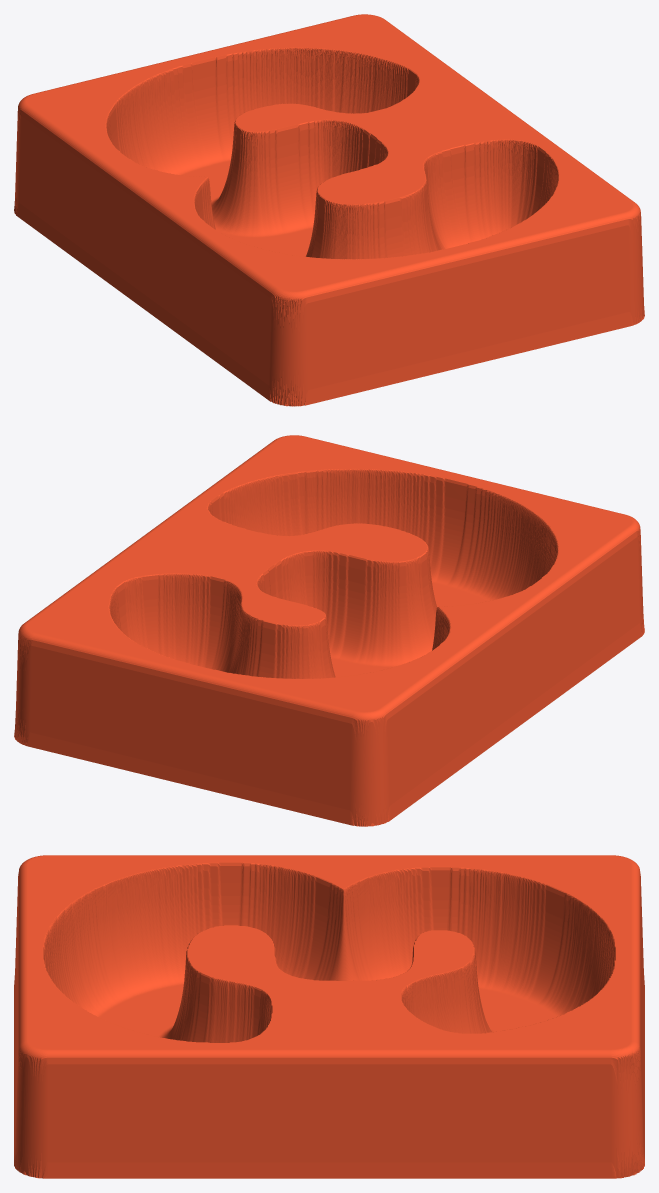
The model's file is mold.glb.
3 views of the same model, one above another, from view 1: azimuth 30°, elevation 25°; view 2: azimuth 150°, elevation 25°; view 3: azimuth 270°, elevation 25° (orthographic). The views are drawn at different scales.
Visible parts, largest first — view 1: geometry_0; view 2: geometry_0; view 3: geometry_0.
Part boxes in pixels (left/top/right/bottom): geometry_0: left=14, top=14, right=644, bottom=406; geometry_0: left=14, top=435, right=644, bottom=826; geometry_0: left=14, top=855, right=644, bottom=1178.
Size of the model in its own units: 0.1298 by 0.0365 by 0.1689.
